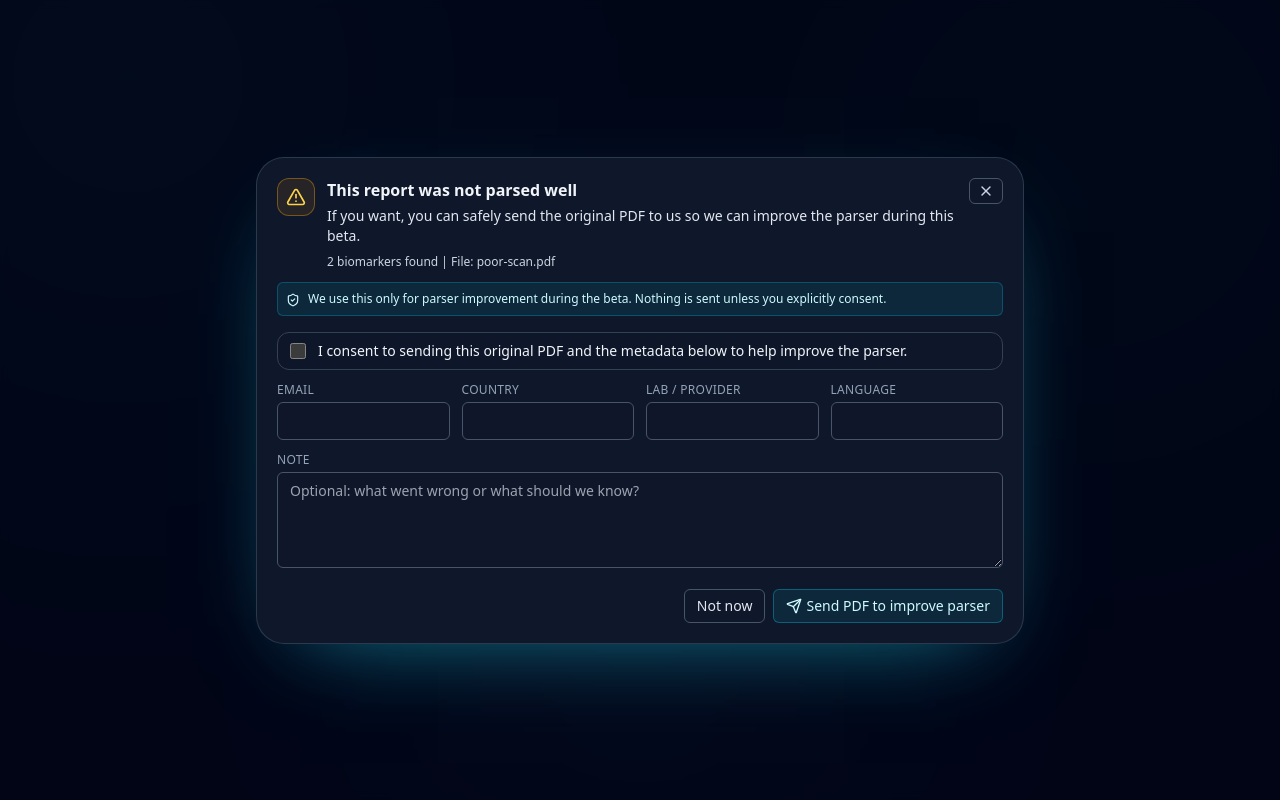
Test: ParserImprovementSubmissionCard › requires a valid email before submitting
Click the checkbox labelled "I consent to sending this original PDF" at [298, 350], box 290,342 -> 306,358
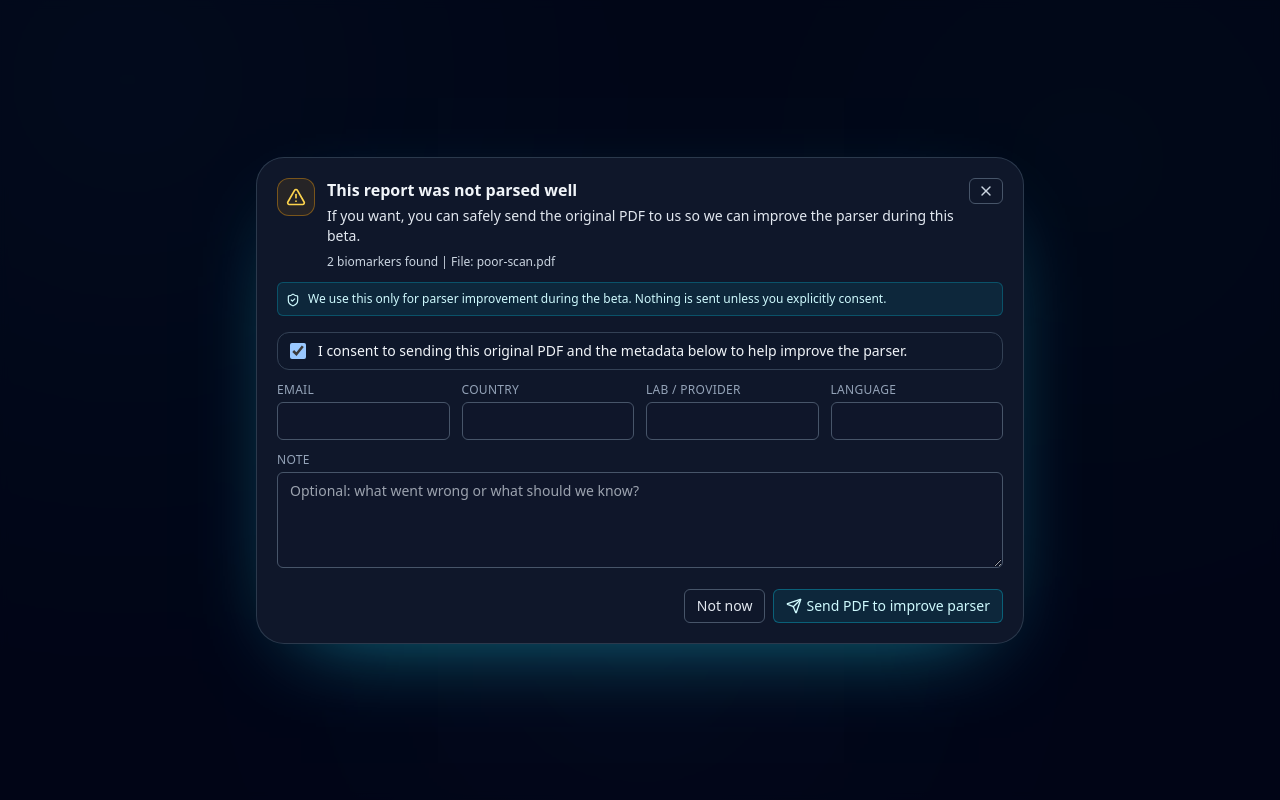
Type "not-an-email" into the field labelled "Email" at [363, 420], box 277,402 -> 450,440
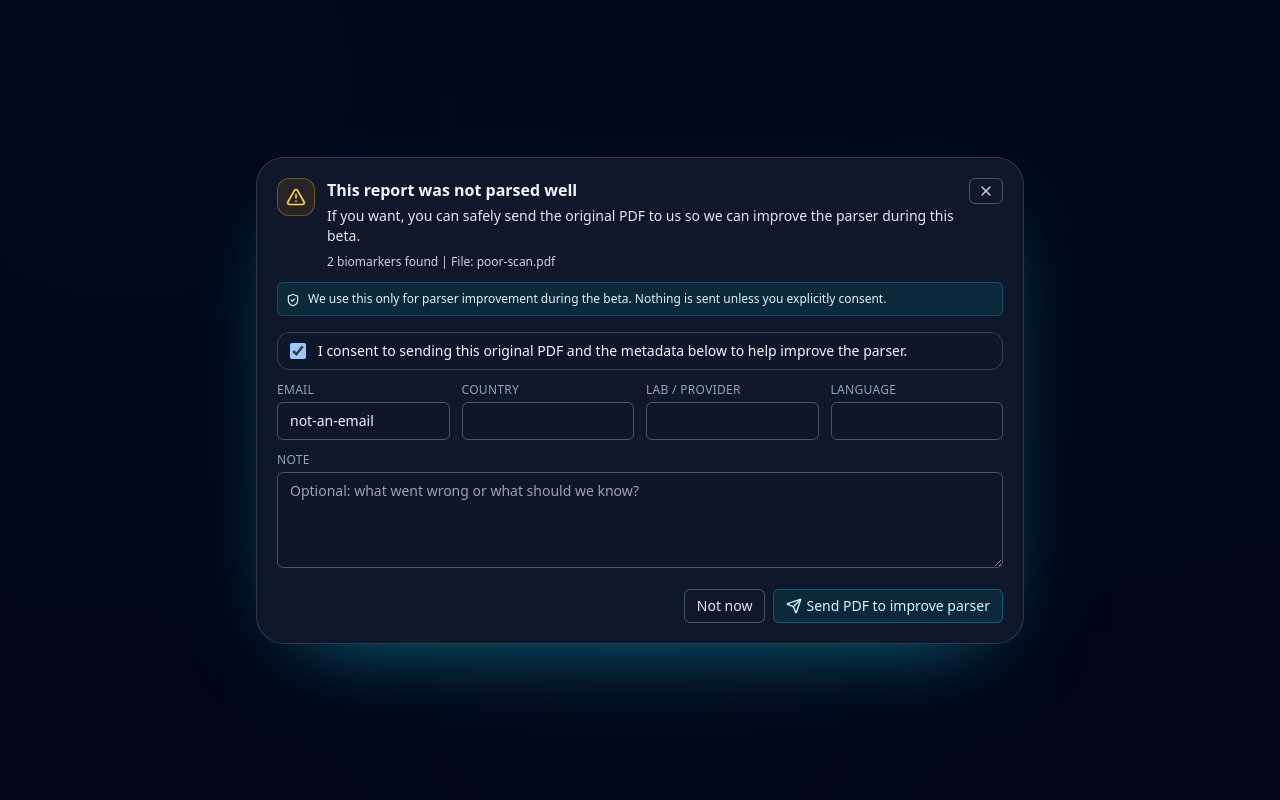
Click the button "Send PDF to improve parser" at [888, 606], box 774,588 -> 1003,622
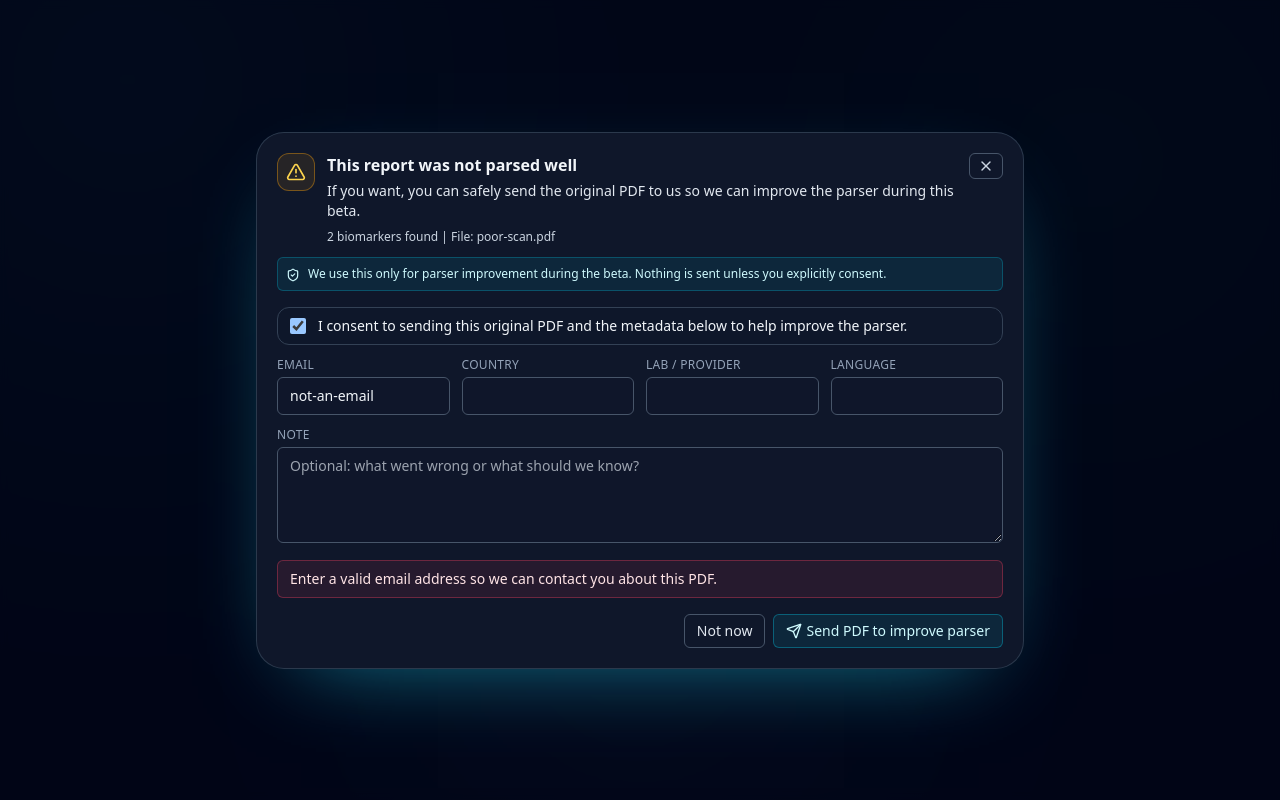
Result: the message shows "valid email" at 290,568 -> 717,588
